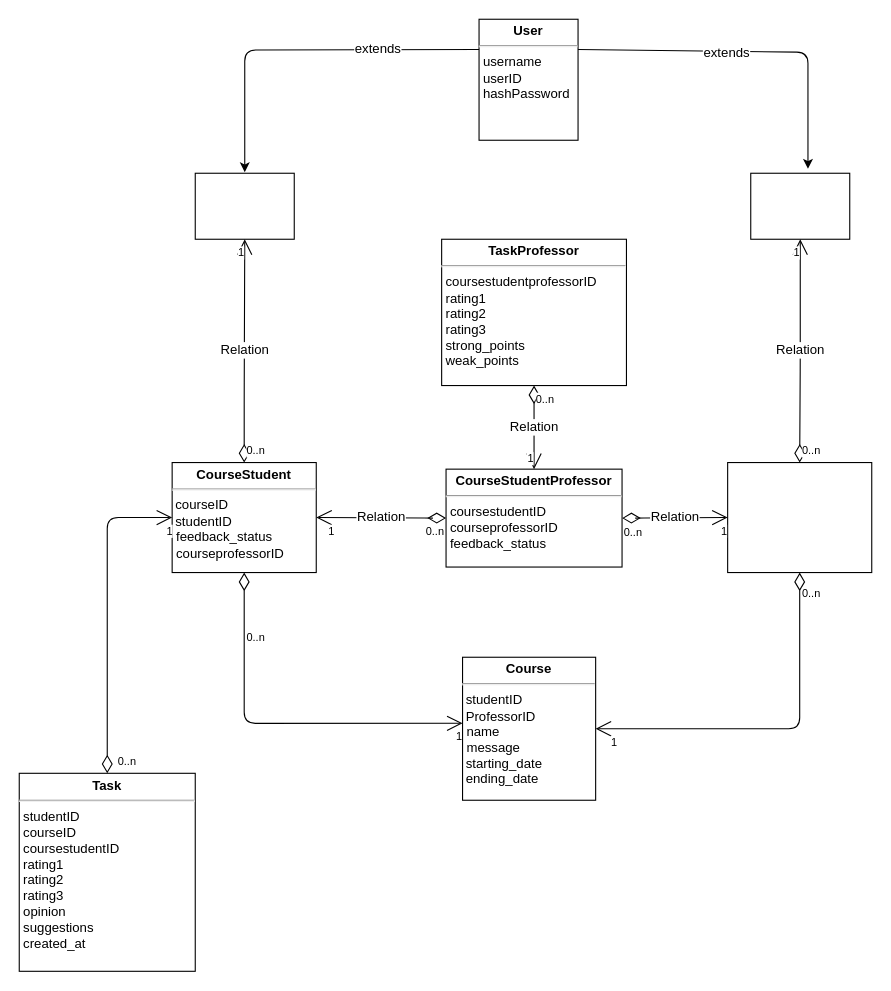
The diagram is 891 pixels wide and 991 high, and some of its shapes have lost their labels. Here are the shapes that lost their labels. From the top down, the box of each, then its label:
(194, 172, 294, 239): Student RollNo
(750, 172, 850, 239): Professor userID
(727, 461, 872, 573): CourseProfessor courseID studentID feedback_status courseprofessorID
